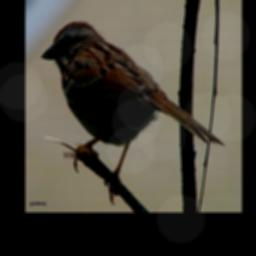Sparrow: (41, 18, 226, 204)
